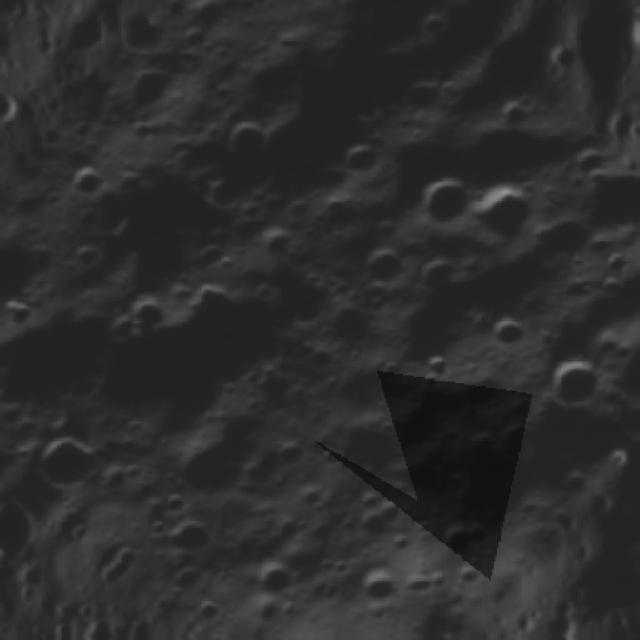crater: (151, 390, 284, 524), (529, 337, 628, 434), (22, 417, 120, 512), (459, 170, 552, 261), (524, 198, 614, 287), (109, 49, 197, 136), (402, 159, 490, 246), (210, 103, 288, 182), (150, 505, 228, 584), (112, 277, 188, 354), (344, 232, 419, 306), (328, 125, 399, 198), (430, 506, 502, 577), (236, 549, 307, 620), (345, 558, 413, 625), (408, 248, 472, 310), (59, 150, 121, 212), (478, 306, 540, 368), (244, 361, 305, 422), (405, 343, 463, 402), (58, 231, 114, 286), (0, 290, 51, 347), (185, 587, 239, 640), (600, 245, 640, 288)
